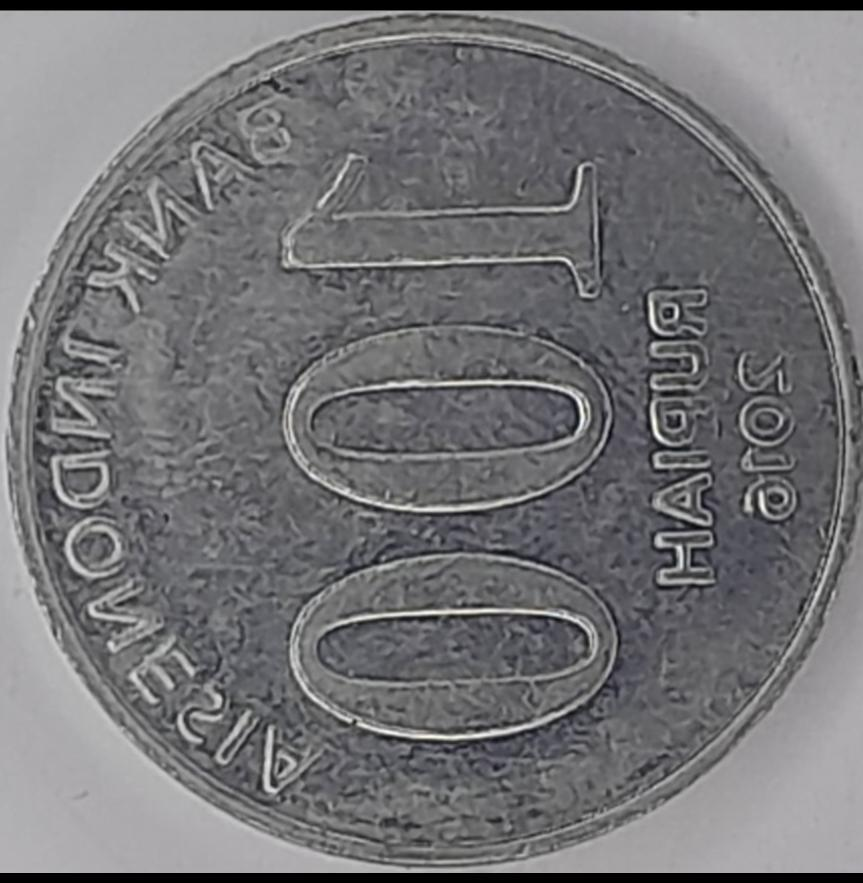coin_100_e2016: (0, 9, 862, 869)
